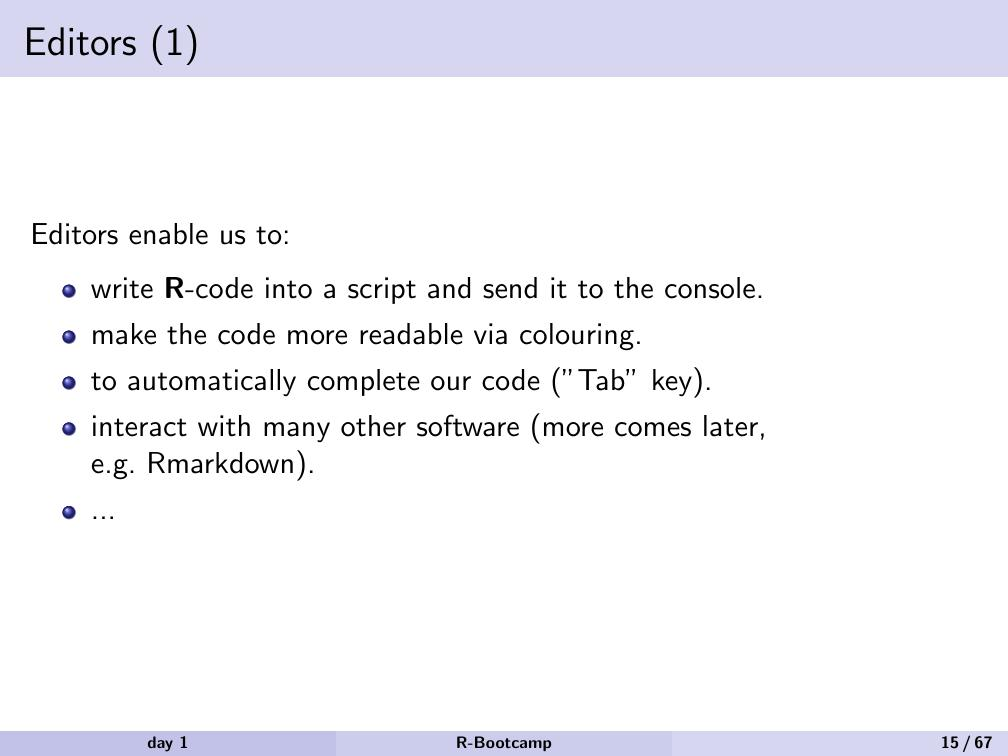Title: (13, 14, 208, 69)
